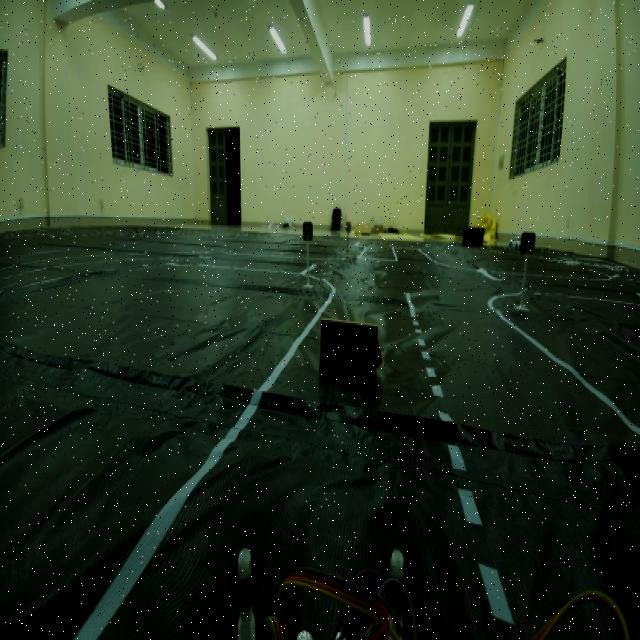roadblock: (318, 312, 387, 395)
